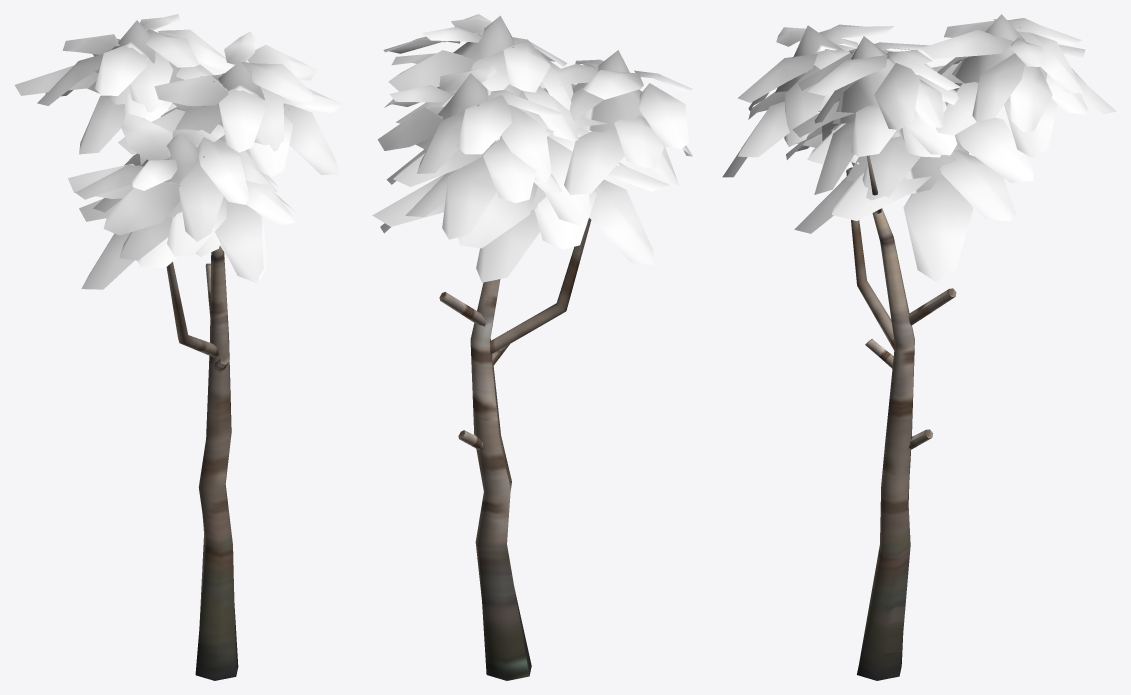
File: Birch_2.FBX
3 renders of one model, left to right at view 1: azimuth 30°, elevation 25°; view 2: azimuth 150°, elevation 25°; view 3: azimuth 270°, elevation 25°, orthographic. The views are drawn at different scales.
Parts seen in each view (by area): view 1: Birch_2; view 2: Birch_2; view 3: Birch_2.
Part boxes in pixels (x1,y1,x2,y2): Birch_2: [14, 14, 343, 680]; Birch_2: [372, 14, 692, 680]; Birch_2: [722, 14, 1116, 680].
Bounding box in the file's own units: 483 × 1052 × 583.
